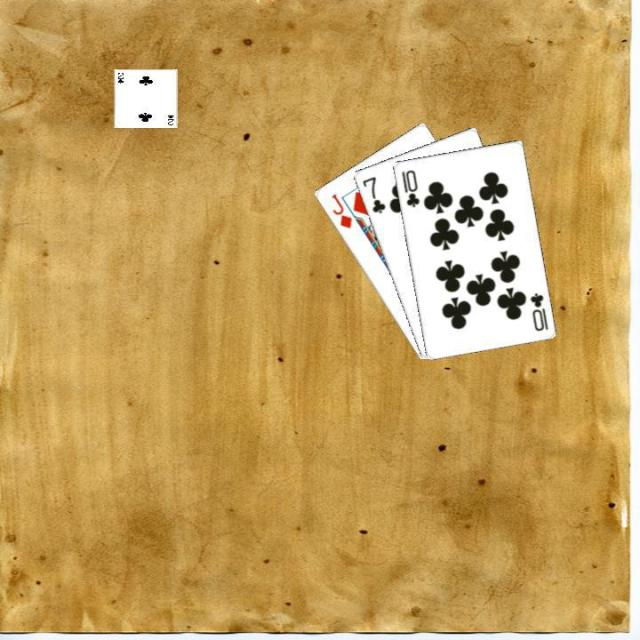10C: (526, 289, 550, 332), (398, 165, 420, 209)
7C: (358, 173, 387, 215)
JD: (327, 190, 354, 230)
